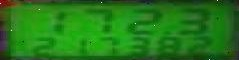-: (160, 28, 170, 34)
1: (49, 10, 64, 31), (74, 37, 86, 54)
2: (122, 8, 157, 34), (183, 35, 208, 55), (28, 36, 54, 55)
3: (173, 6, 208, 35), (125, 35, 148, 55)
7: (81, 7, 112, 32), (94, 36, 117, 55)
8: (155, 36, 180, 55)
